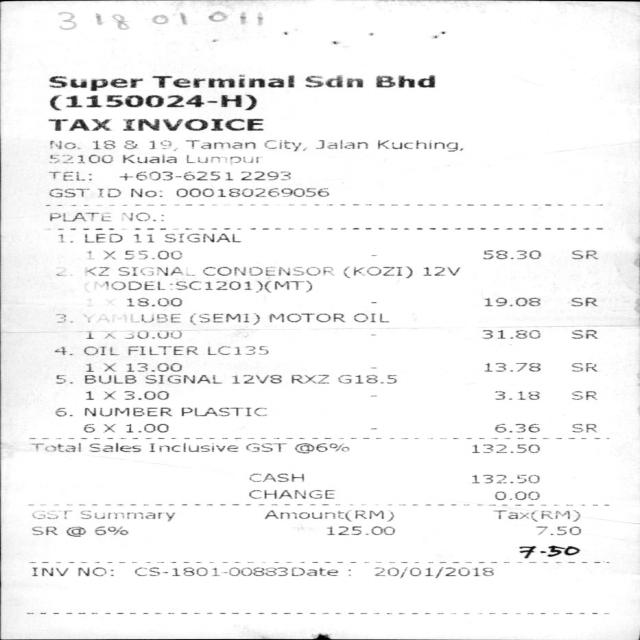text: (49, 94, 256, 110), (134, 565, 338, 577), (83, 279, 252, 292), (151, 74, 293, 87), (174, 187, 328, 198), (121, 118, 262, 130), (264, 509, 392, 522), (374, 566, 492, 578), (48, 75, 141, 90), (201, 266, 332, 276), (118, 170, 232, 180), (493, 509, 579, 522), (132, 232, 241, 242), (80, 510, 174, 521), (376, 140, 462, 152), (80, 313, 180, 323), (185, 139, 275, 149), (374, 74, 434, 88), (342, 266, 412, 278), (188, 312, 258, 324), (518, 545, 579, 558), (83, 407, 171, 416), (148, 443, 236, 452), (48, 210, 113, 222), (116, 266, 194, 276), (180, 407, 266, 416), (46, 118, 110, 130), (248, 489, 333, 498), (268, 312, 344, 322), (303, 75, 362, 87), (127, 345, 197, 355), (144, 374, 221, 383), (45, 153, 111, 163), (185, 154, 257, 163), (326, 526, 394, 535), (471, 443, 538, 452), (471, 474, 538, 483), (294, 442, 348, 453), (481, 249, 540, 259), (124, 250, 181, 260), (46, 169, 86, 183), (248, 472, 302, 482), (128, 296, 181, 306), (481, 329, 539, 338), (88, 442, 140, 452), (57, 234, 121, 242), (483, 297, 539, 306), (483, 362, 539, 371), (240, 170, 290, 180), (30, 442, 80, 452), (121, 154, 176, 163), (44, 188, 89, 199), (125, 362, 180, 371), (206, 346, 267, 354), (314, 139, 366, 148), (84, 374, 135, 383), (336, 372, 377, 383), (230, 374, 280, 383), (124, 330, 180, 338), (124, 390, 168, 400), (494, 390, 538, 400), (494, 422, 538, 432), (494, 490, 538, 500), (125, 422, 167, 432), (535, 526, 580, 535), (245, 442, 285, 452), (422, 266, 459, 276), (30, 566, 67, 576), (46, 140, 79, 151), (352, 312, 388, 322), (289, 374, 328, 383), (127, 211, 162, 221), (83, 345, 118, 355), (77, 566, 112, 576), (32, 509, 70, 518), (270, 279, 300, 290), (94, 526, 127, 535), (278, 140, 304, 151), (148, 140, 174, 150), (130, 188, 156, 198), (571, 249, 597, 259), (91, 140, 115, 150), (96, 188, 120, 198), (570, 390, 594, 400), (570, 297, 596, 306), (571, 329, 597, 338), (571, 362, 597, 371), (85, 266, 108, 276), (31, 526, 56, 535), (571, 423, 595, 432), (84, 331, 114, 338), (50, 313, 70, 323), (54, 265, 69, 277), (66, 526, 84, 536), (82, 249, 96, 261), (54, 346, 72, 355), (54, 408, 72, 417), (54, 375, 72, 383), (122, 140, 135, 150), (101, 296, 114, 306), (101, 423, 114, 432), (102, 250, 116, 258), (102, 363, 115, 371), (102, 391, 115, 399), (83, 298, 93, 308), (385, 374, 395, 383), (83, 423, 93, 432), (84, 390, 92, 400), (85, 363, 93, 371)
